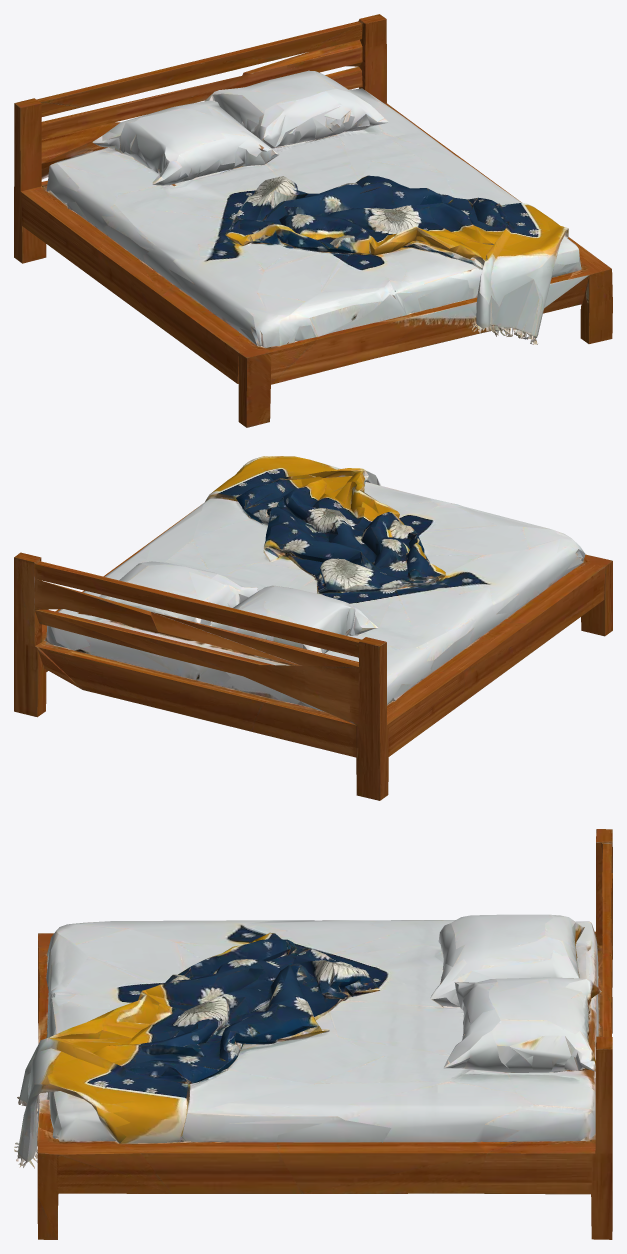
3 renders of one model, top to bottom at view 1: azimuth 30°, elevation 25°; view 2: azimuth 150°, elevation 25°; view 3: azimuth 270°, elevation 25°, orthographic. The views are drawn at different scales.
Bounding box in the file's own units: 1.65 × 0.6676 × 1.9.
1 material, 1 textured.
